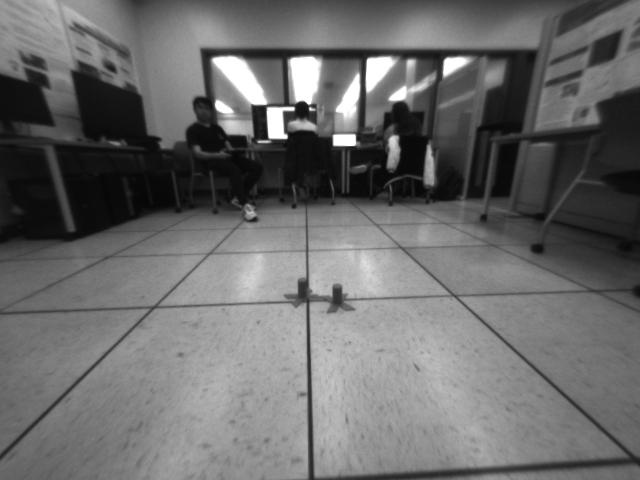X: (281, 276, 326, 308), (319, 282, 357, 315)
